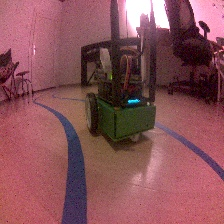rob: (83, 51, 156, 144)
